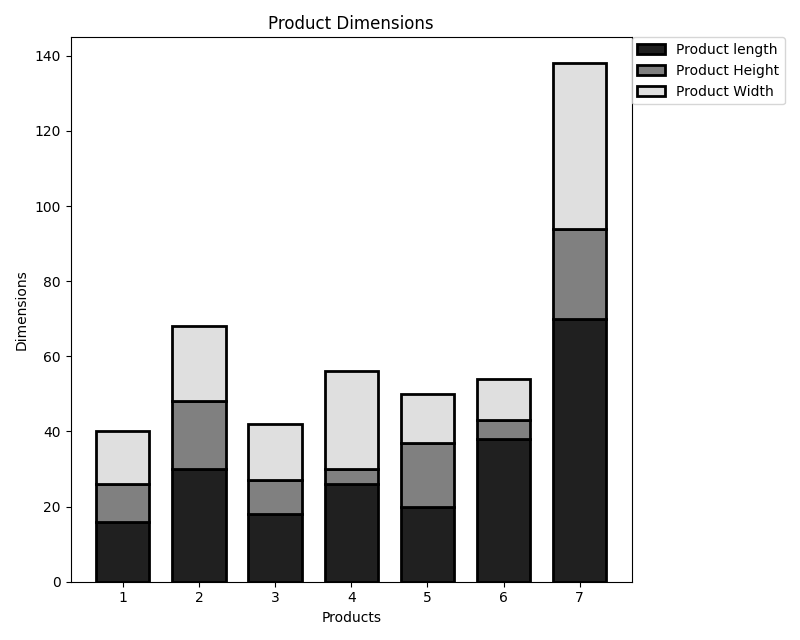canvas: (81, 48, 617, 583)
legend: (634, 40, 780, 100)
title: (257, 10, 446, 35)
x-axis: (110, 580, 591, 590)
x-labels: (115, 589, 594, 606)
x-title: (320, 608, 385, 626)
y-axis: (65, 30, 75, 590)
y-labels: (33, 44, 64, 597)
y-title: (11, 268, 29, 359)
